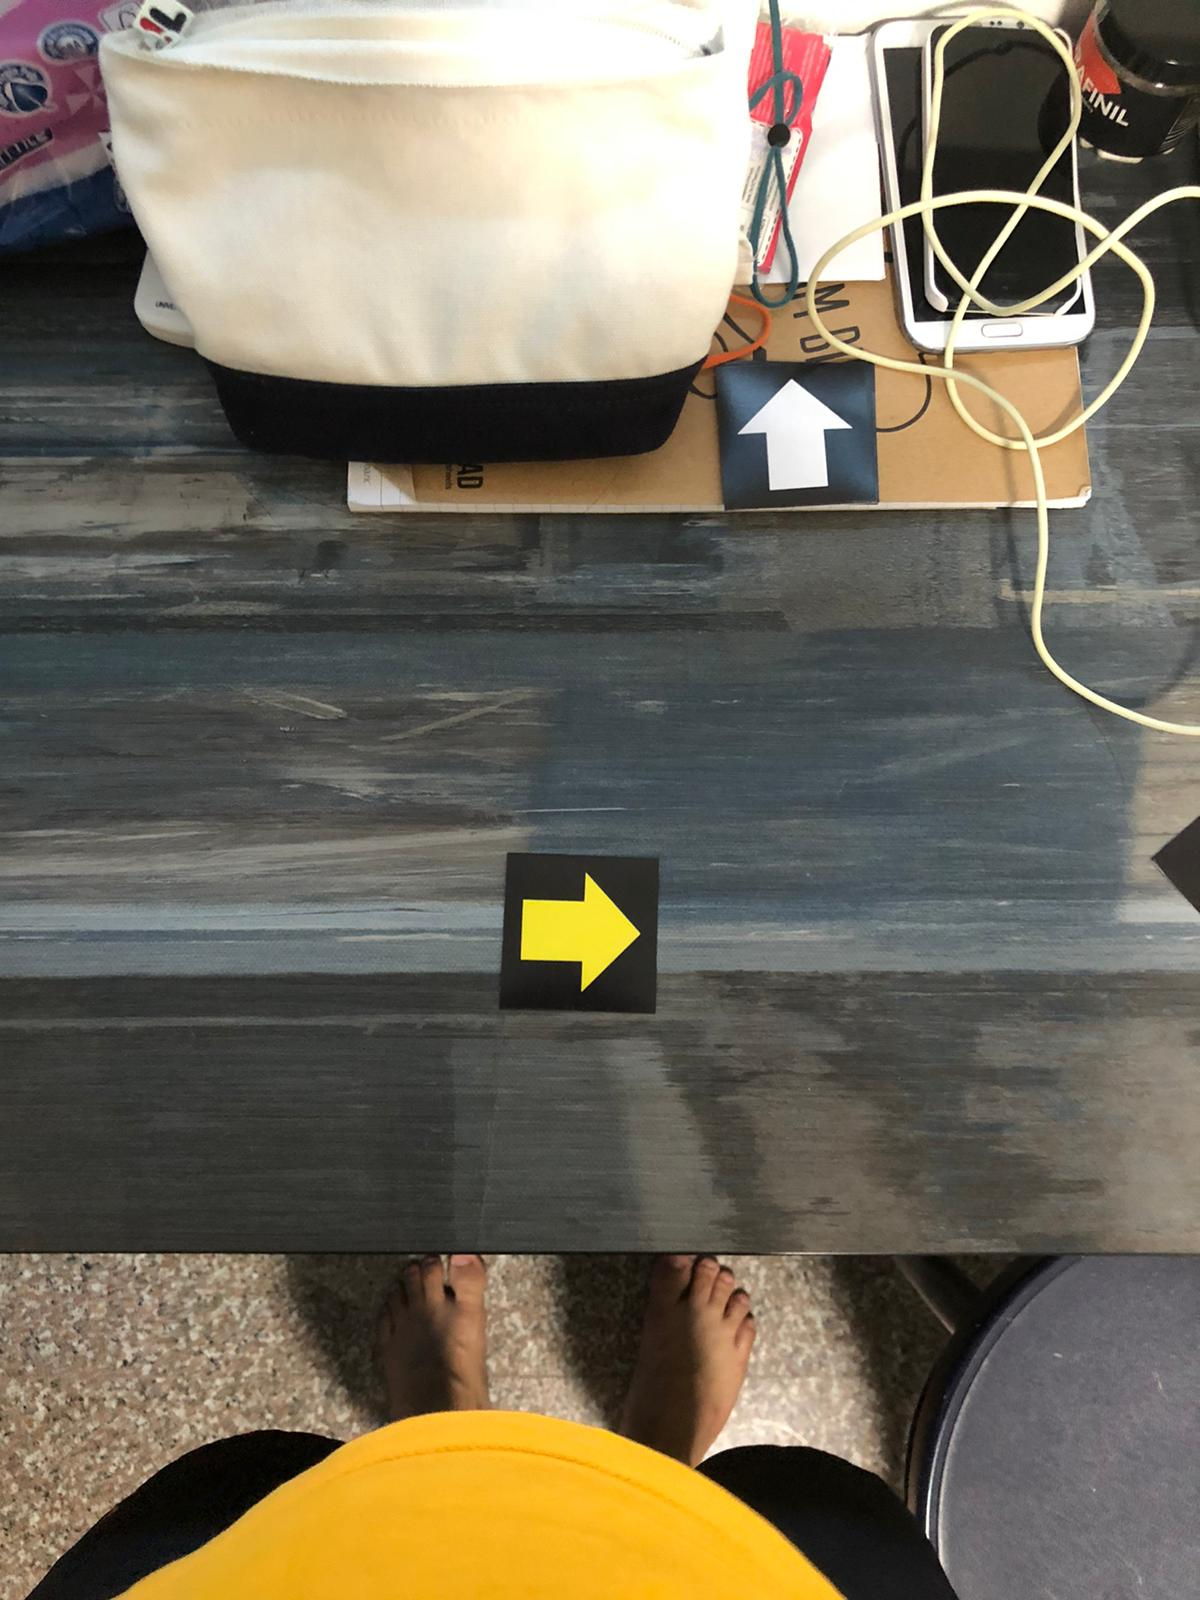Right Arrow: (511, 864, 653, 1002)
